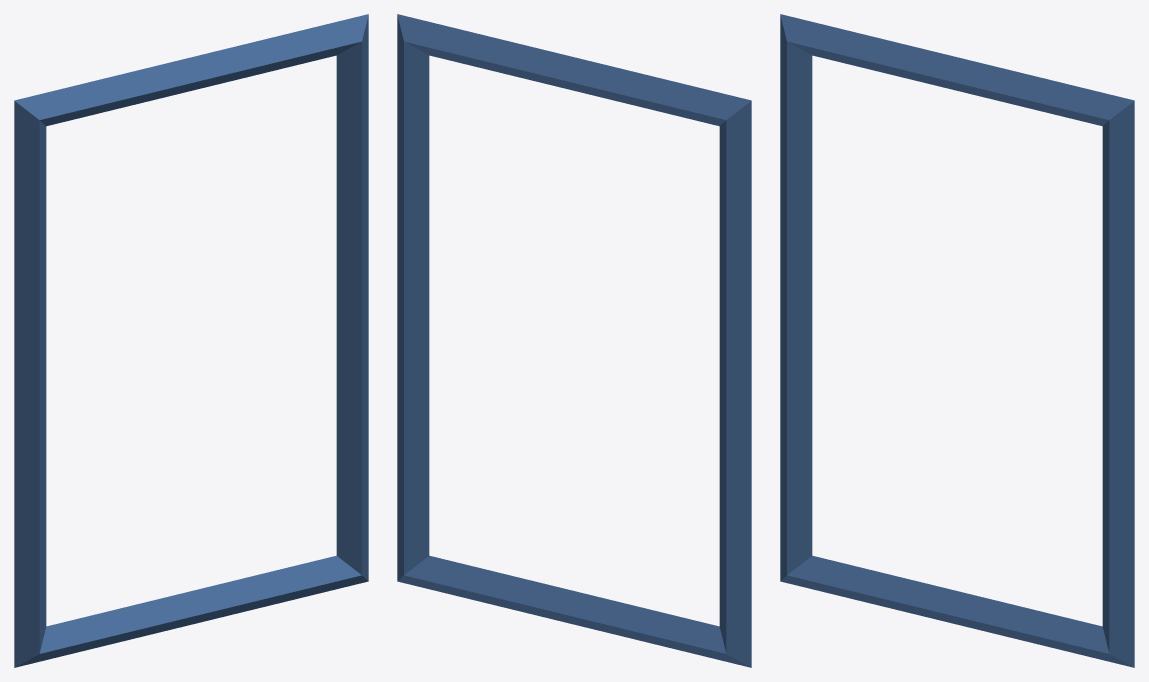
File: SP_House06_Farme01.fbx
The picture shows the model from 3 angles, left to right: view 1: azimuth 30°, elevation 25°; view 2: azimuth 150°, elevation 25°; view 3: azimuth 330°, elevation 25°; orthographic projection.
Visible parts, largest first — view 1: SP_House06_Farme01; view 2: SP_House06_Farme01; view 3: SP_House06_Farme01.
Part boxes in pixels (x1,y1,x2,y2): SP_House06_Farme01: (14, 14, 368, 667); SP_House06_Farme01: (397, 14, 751, 667); SP_House06_Farme01: (780, 14, 1134, 667).
Bounding box in the file's own units: 0.4938 × 0.755 × 0.0448.
